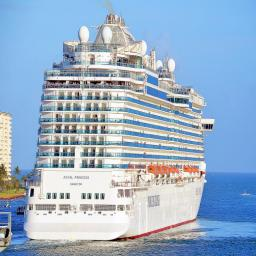cruises: (22, 13, 217, 247)
